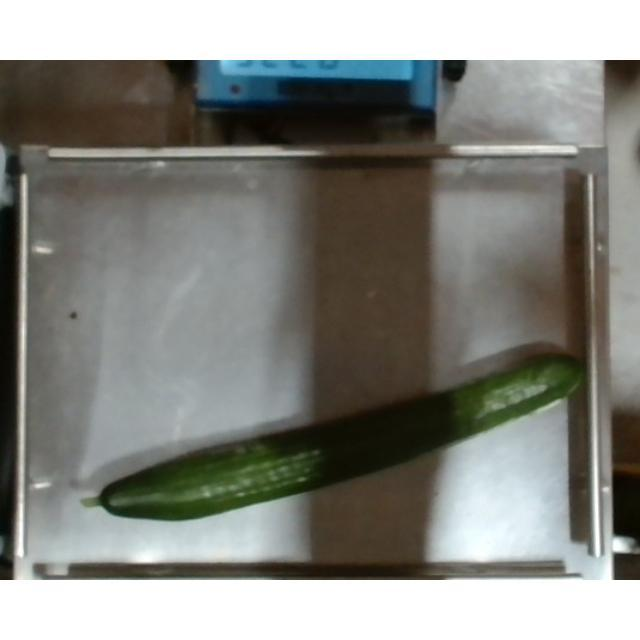cucumber: (80, 353, 588, 522)
